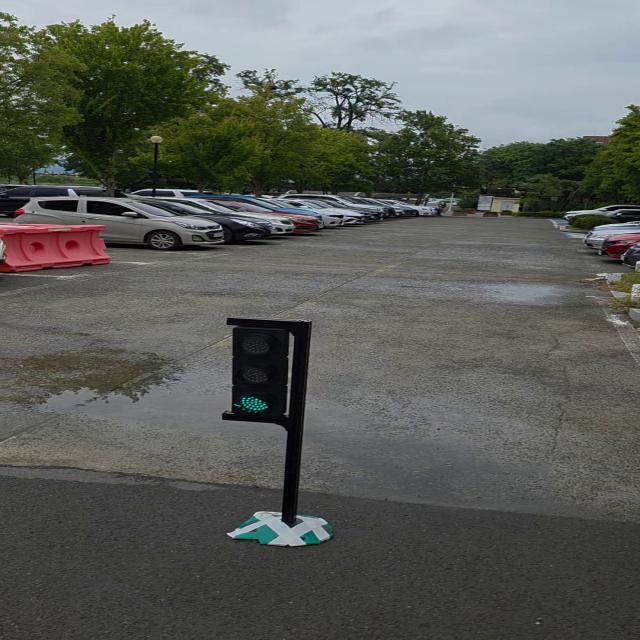green: (230, 320, 298, 422)
